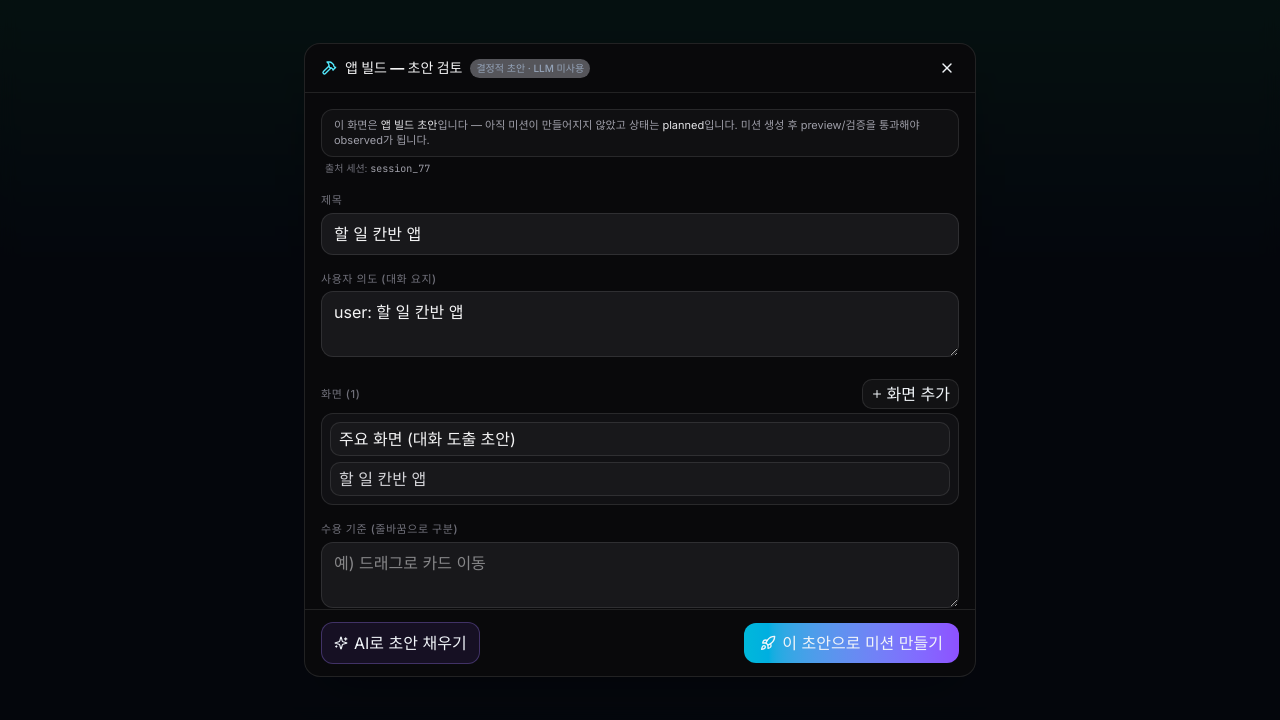
Test: AppBuildContainer 상호작용 (jsdom) › 'AI로 초안 채우기' 실패(degraded) → 'AI 실패' 경고 배지 + 사용자가 편집한 초안 보존(정직)
Replace the text in the field labelled "제목" with "내_편집_제목" at [640, 234], box left=321, top=213, right=959, bottom=255
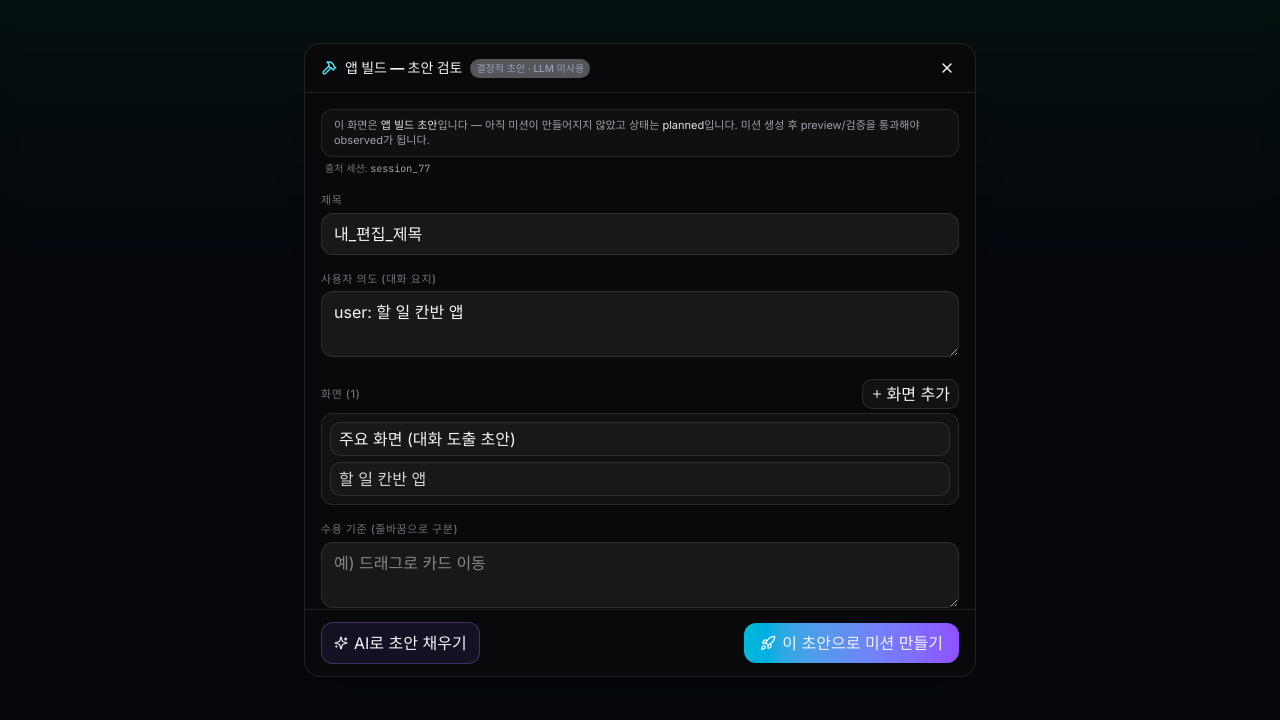
Click the button "AI로 초안 채우기" at [400, 643], box left=321, top=622, right=480, bottom=664
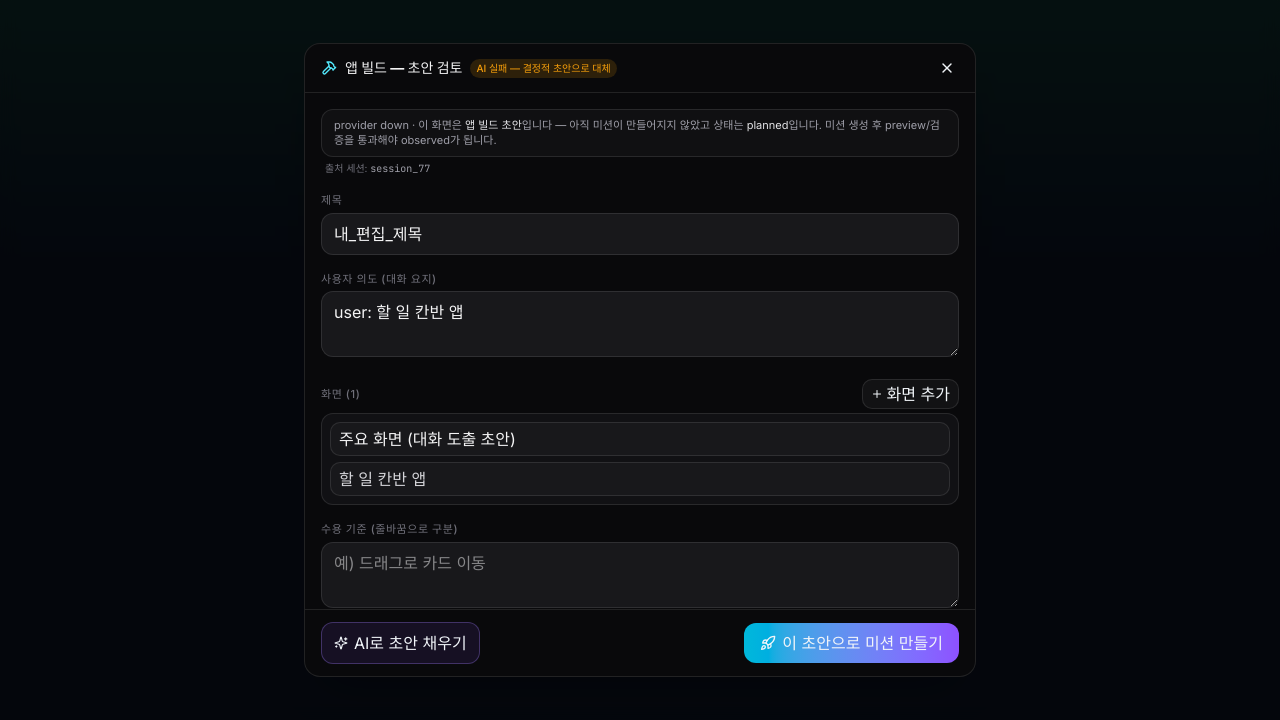
Expected: the text "AI 실패 — 결정적 초안으로 대체" is shown, left=470, top=59, right=617, bottom=78
Expected: the text "provider down" is shown, left=334, top=118, right=418, bottom=132
